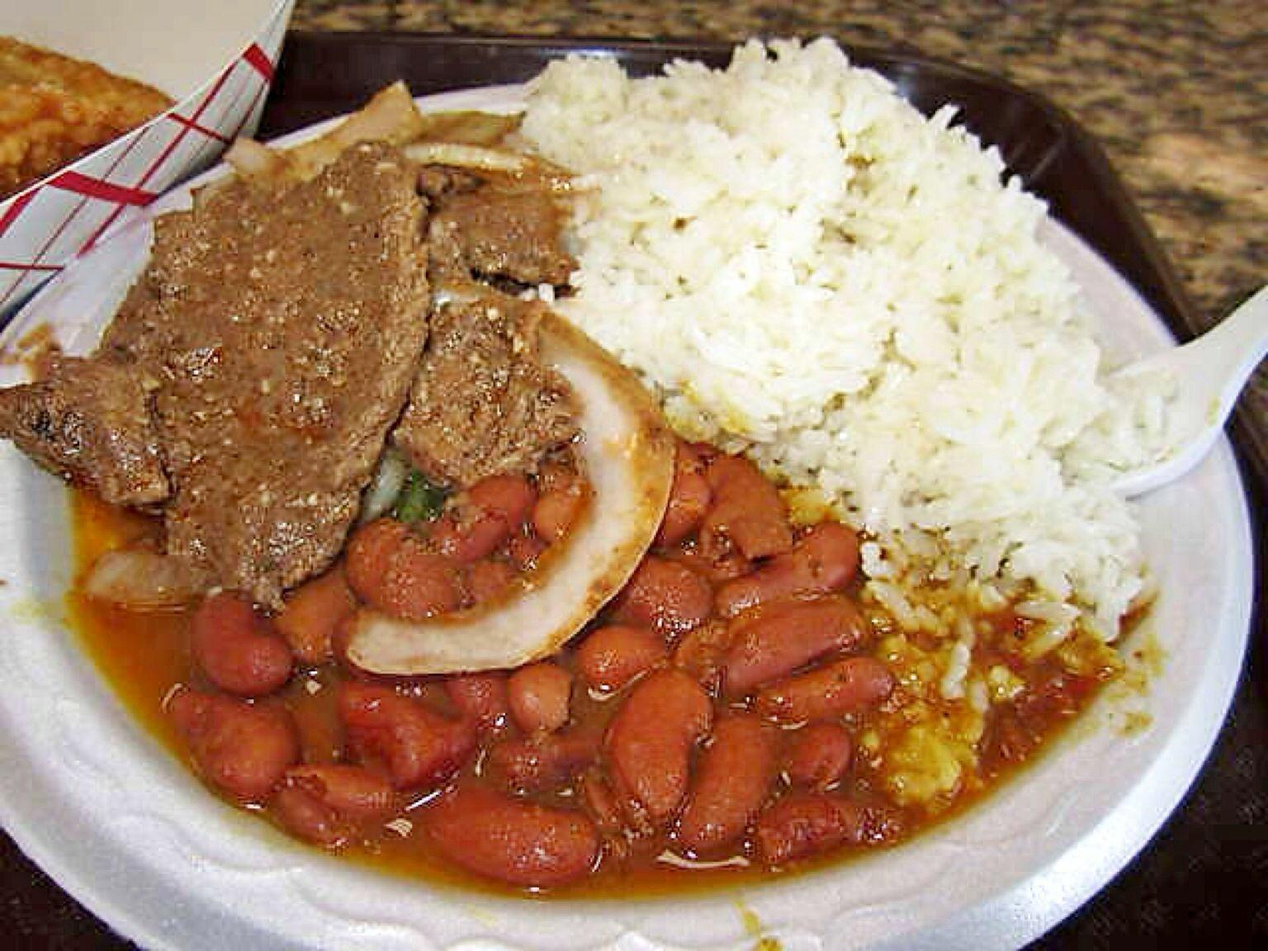WhiteRice: (518, 39, 1178, 638)
